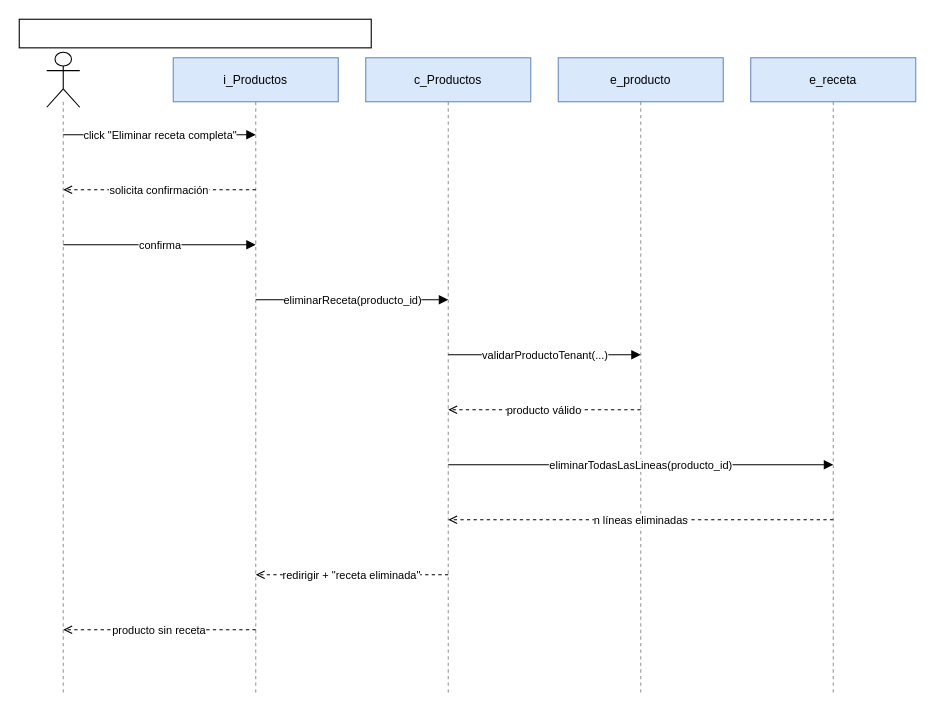
The diagram is 935 pixels wide and 716 high, and some of its shapes have lost their labels. The centre of each missing label's shape, as x and y in pixels:
"Administrador" belongs at point 63,79.
"Secuencia - Eliminar Receta (CU-08)" belongs at point 194,33.
